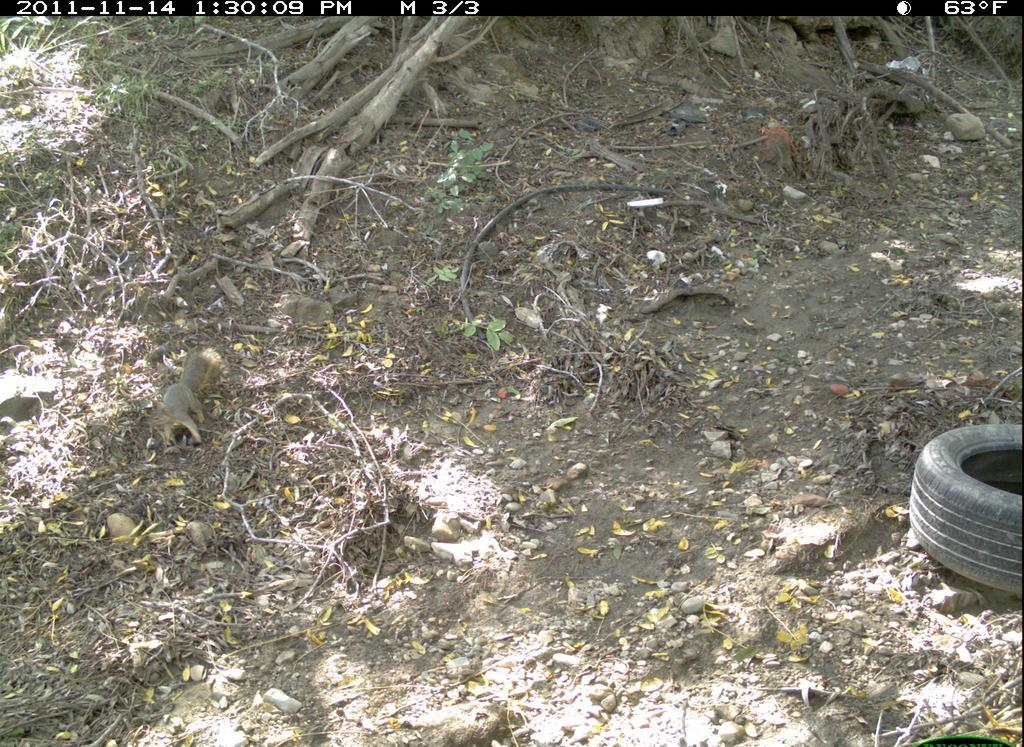squirrel: (132, 340, 253, 465)
